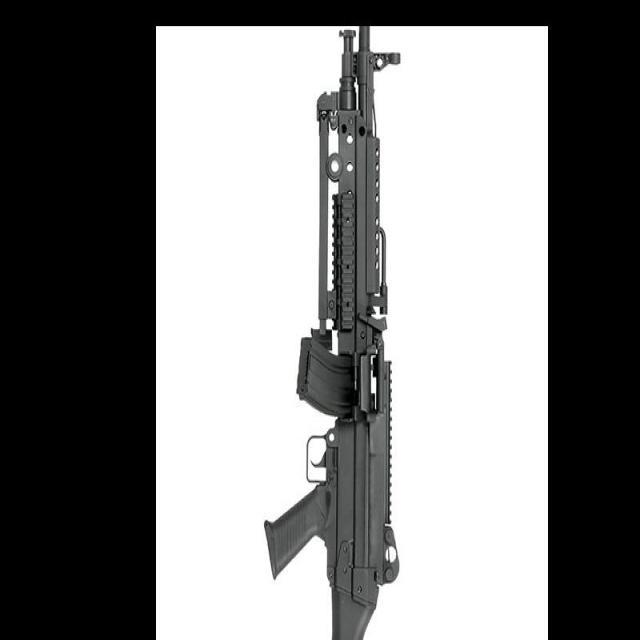weapon: (264, 27, 400, 640)
